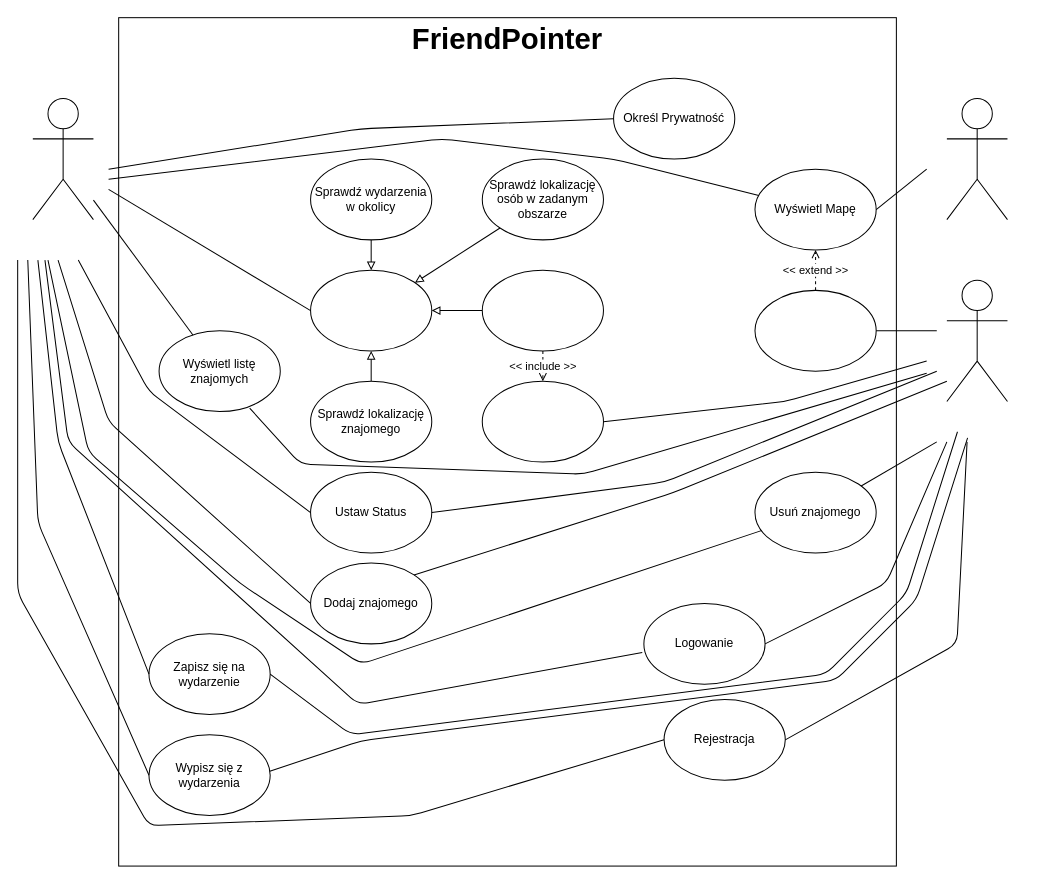
The diagram is 1044 pixels wide and 884 high, and some of its shapes have lost their labels. The centre of each missing label's shape, as x and y in pixels:
API Firebase: the point at 976,340
API Map: the point at 976,158
Dodaj wydarzenie na mapie: the point at 815,330
Sprawdź lokalizację: the point at 371,310
Sprawdź lokalizację własną: the point at 542,310
Uaktualnij lokalizację: the point at 542,421
Użytkownik: the point at 62,158
